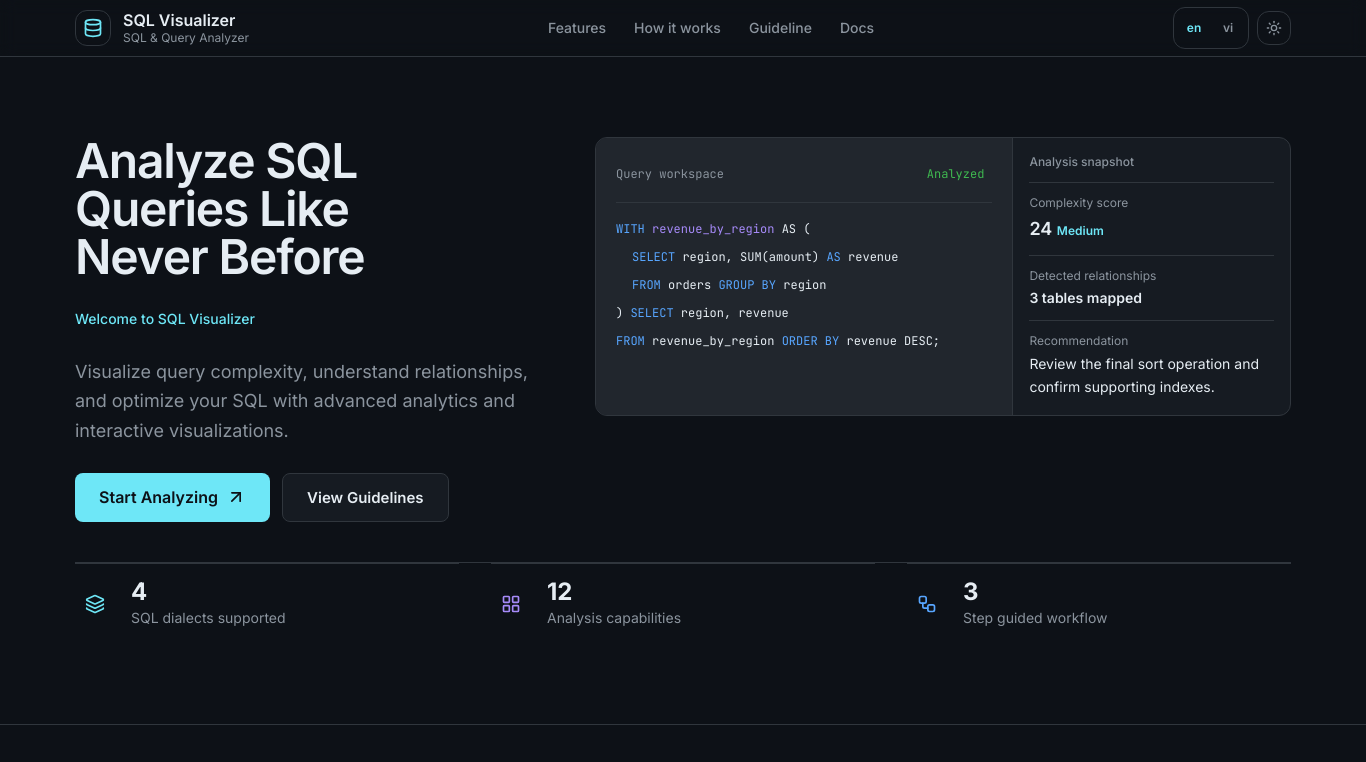
it: Home page feature overview › translates the capabilities when the language switch is used
Click the button with aria-label "Tiếng Việt" at (1228, 28), box [1212,12,1244,44]
(page scrolled)
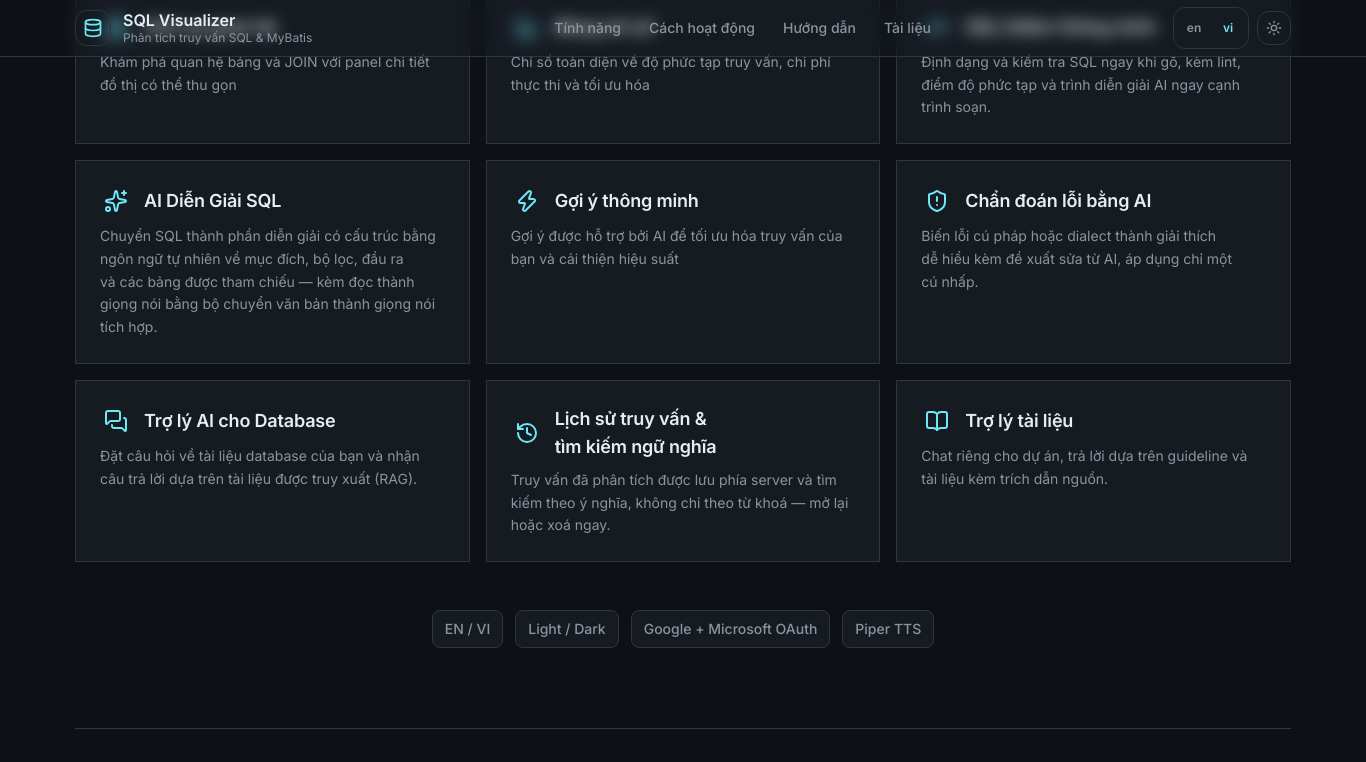
Now the heading "SQL Editor thông minh" is shown, box [965,13,1156,41]
Now the heading "Lịch sử truy vấn & tìm kiếm ngữ nghĩa" is shown, box [555,408,716,457]
